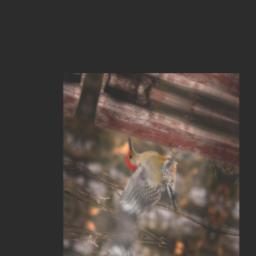Woodpecker: (107, 135, 191, 243)
